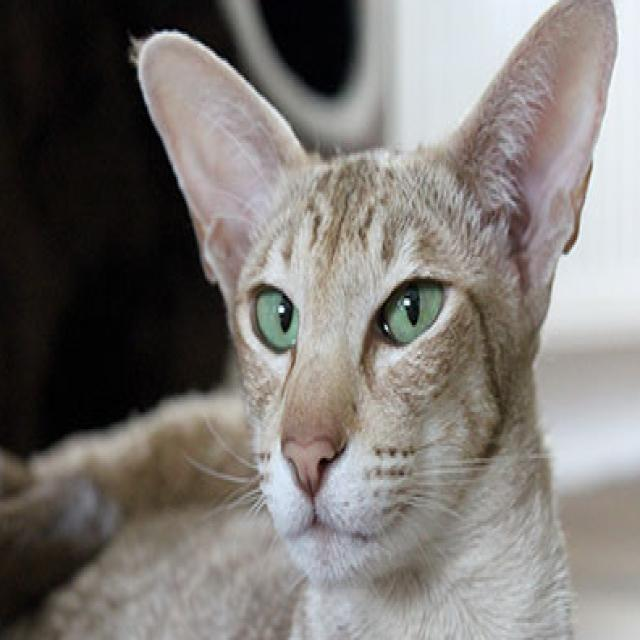Oriental: (0, 0, 621, 640)
